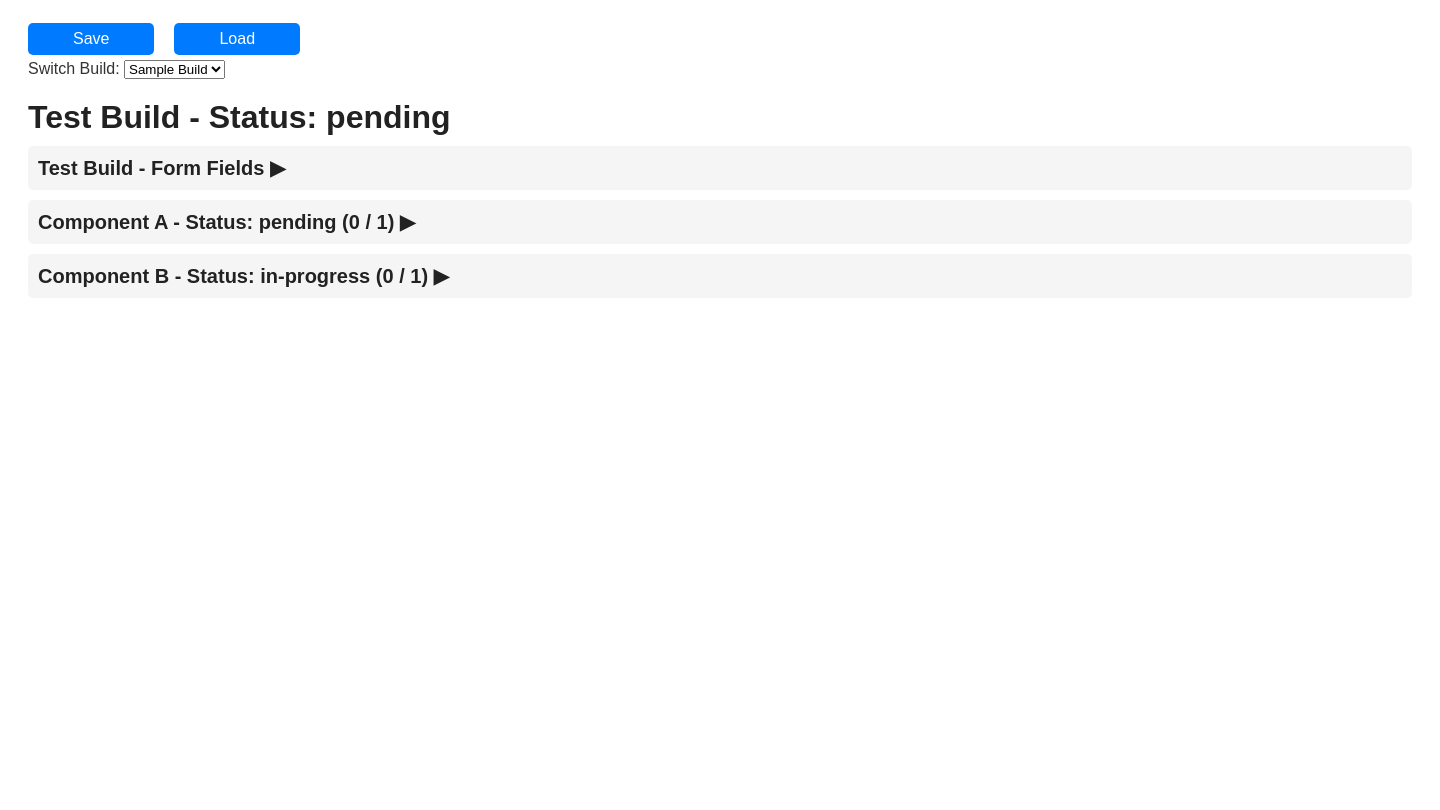
Scenario: Component Interaction › expands a component and renders its associated tasks
# Expand Component A
Click the heading "Component A - Status: pending (0 / 1) ▶": (720, 222) [28,200,1412,244]
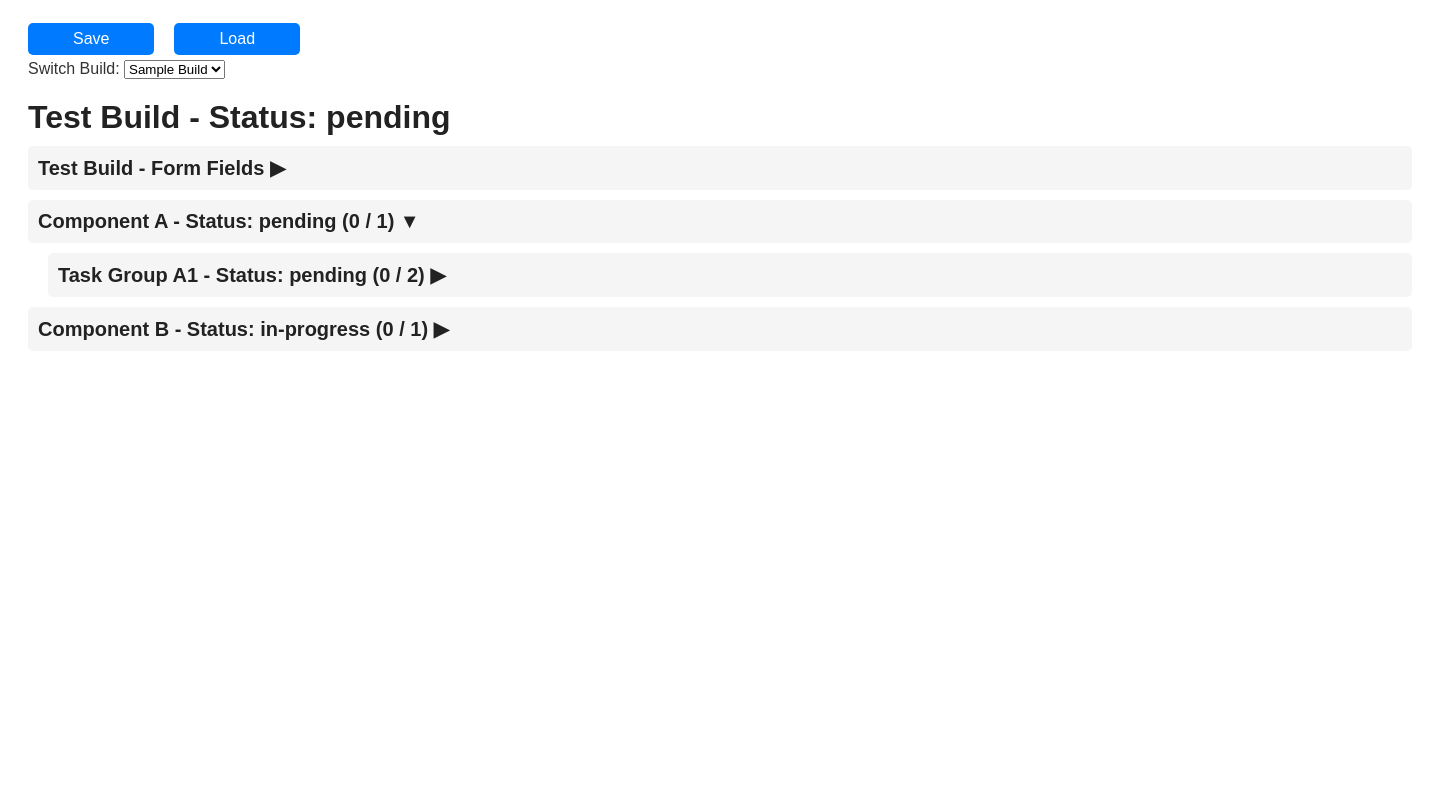
Check: the heading "Task Group A1 - Status: pending (0 / 2) ▶" is shown
# Expand Task Group A1
Click the heading "Task Group A1 - Status: pending (0 / 2) ▶": (730, 275) [48,253,1412,297]
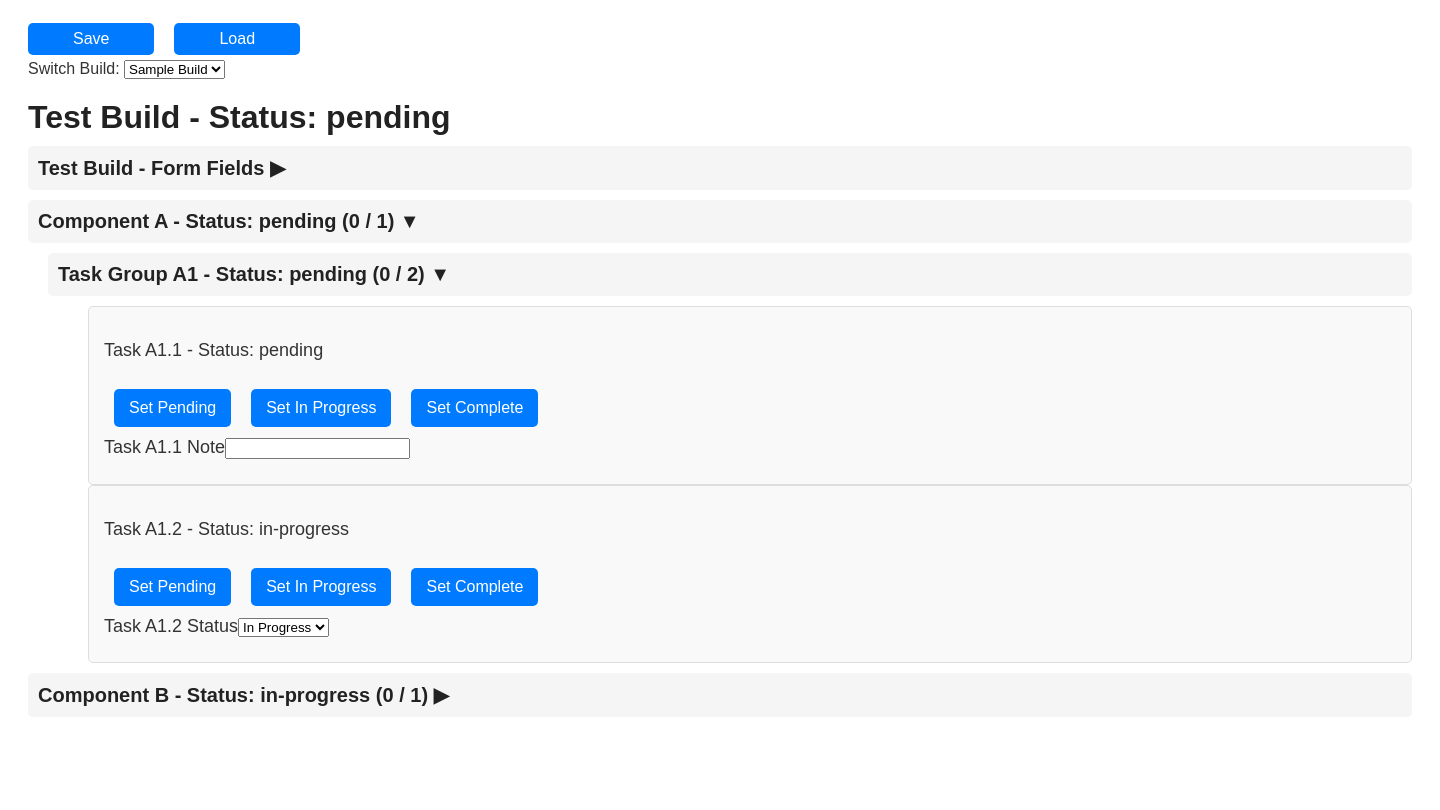
Check: the text "Task A1.1 - Status: pending" is shown, box [104,340,323,360]
Check: the text "Task A1.2 - Status: in-progress" is shown, box [104,519,349,539]
